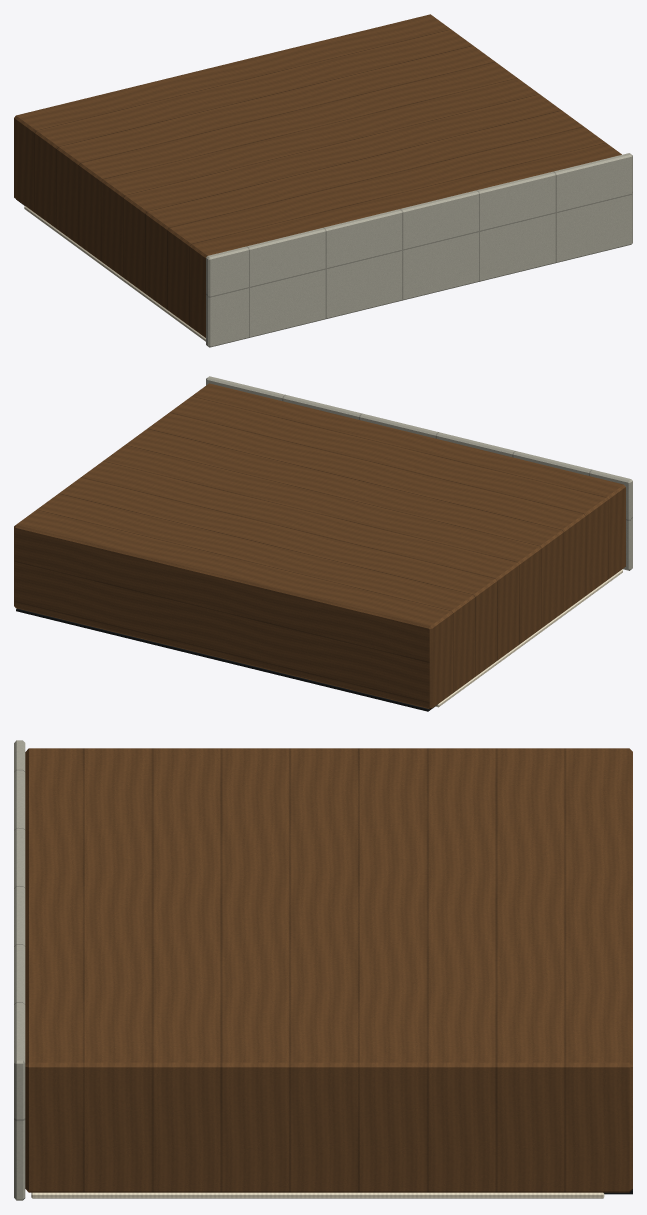
The model's file is dressing_south.obj.
3 views of the same model, one above another, from view 1: azimuth 30°, elevation 25°; view 2: azimuth 150°, elevation 25°; view 3: azimuth 270°, elevation 25° (orthographic). The views are drawn at different scales.
Parts seen in each view (by area): view 1: dressing_south_oak, dressing_south_tile, dressing_south_linen; view 2: dressing_south_oak, dressing_south_tile, dressing_south_charcoal, dressing_south_linen; view 3: dressing_south_oak, dressing_south_tile, dressing_south_linen.
Part boxes in pixels (x1=…): dressing_south_oak: x1=14, y1=14, x2=621, y2=337; dressing_south_tile: x1=206, y1=153, x2=632, y2=347; dressing_south_linen: x1=24, y1=206, x2=205, y2=341; dressing_south_oak: x1=14, y1=383, x2=625, y2=709; dressing_south_tile: x1=206, y1=376, x2=632, y2=570; dressing_south_charcoal: x1=16, y1=608, x2=436, y2=711; dressing_south_linen: x1=435, y1=569, x2=622, y2=707; dressing_south_oak: x1=25, y1=748, x2=632, y2=1192; dressing_south_tile: x1=14, y1=740, x2=25, y2=1200; dressing_south_linen: x1=31, y1=1192, x2=604, y2=1198.
Size of the model in its own units: 133 by 28.1 by 108.
Materials: 5 (5 with a texture image).
